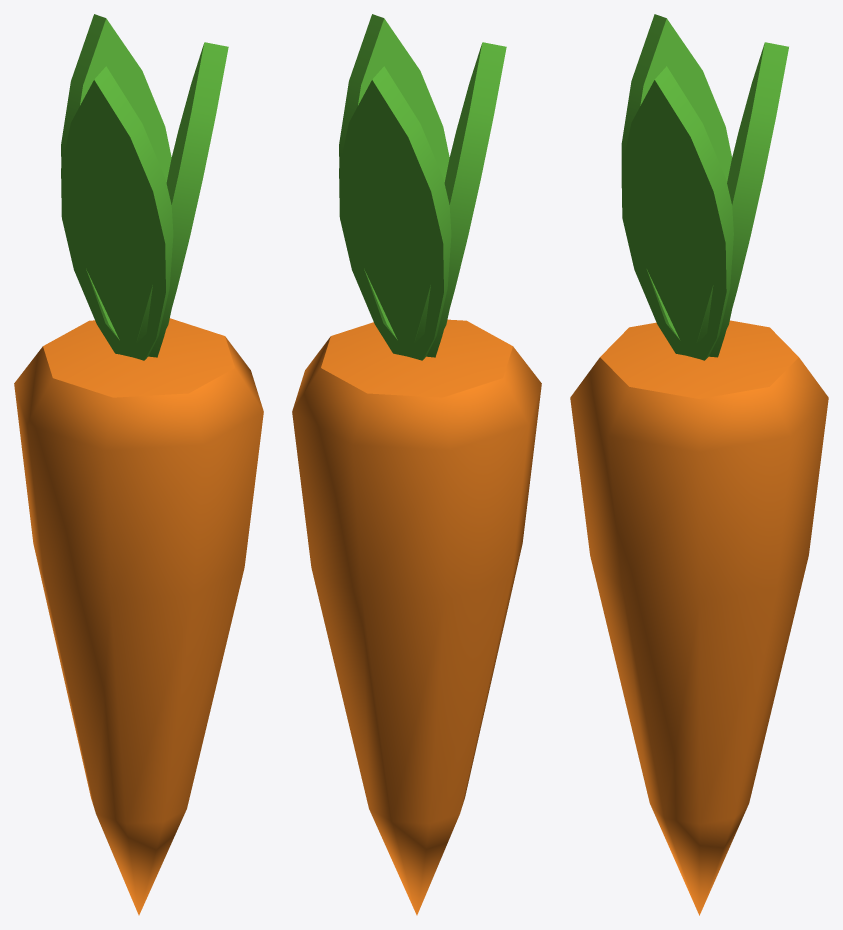
The model's file is Carrot.fbx.
The picture shows the model from 3 angles, left to right: view 1: azimuth 30°, elevation 25°; view 2: azimuth 150°, elevation 25°; view 3: azimuth 270°, elevation 25°; orthographic projection.
Parts seen in each view (by area): view 1: Carrot; view 2: Carrot; view 3: Carrot.
Part boxes in pixels (x1=…): Carrot: x1=14, y1=14, x2=263, y2=915; Carrot: x1=292, y1=14, x2=541, y2=915; Carrot: x1=570, y1=14, x2=828, y2=915.
Bounding box in the file's own units: 0.52 × 1.94 × 0.52.
Materials: 1 (1 with a texture image).
